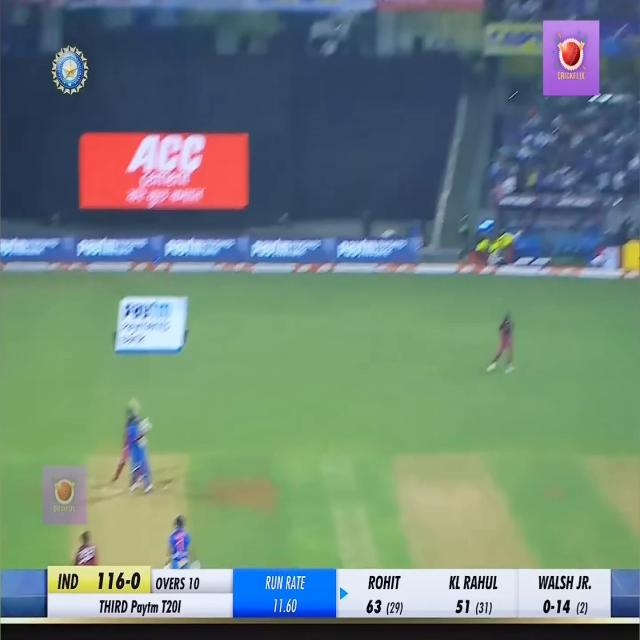partially_visible: (122, 296, 176, 326)
